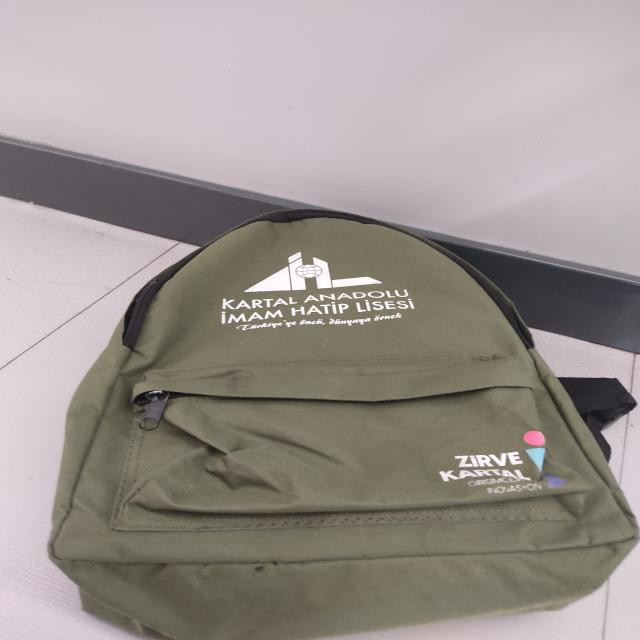bag: (46, 205, 637, 640)
